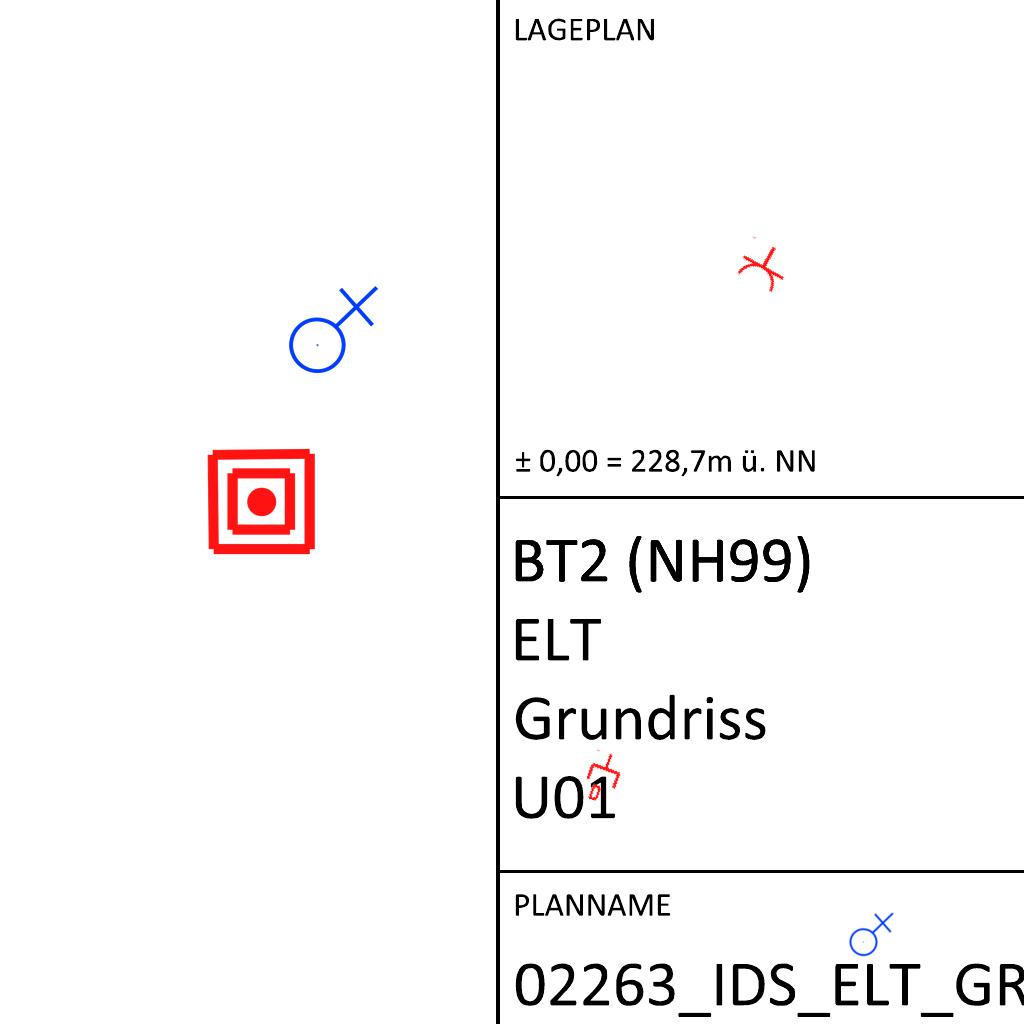Datenanschluss_einfach: (578, 747, 628, 807)
Elektroanschluss_allgemein_230V_Geraeteanschlussdose_230V: (280, 281, 379, 375), (845, 910, 894, 957)
NAM-Nichtautomatischer_Melder: (205, 445, 318, 558)
Schukosteckdose_einfach: (731, 234, 796, 296)
